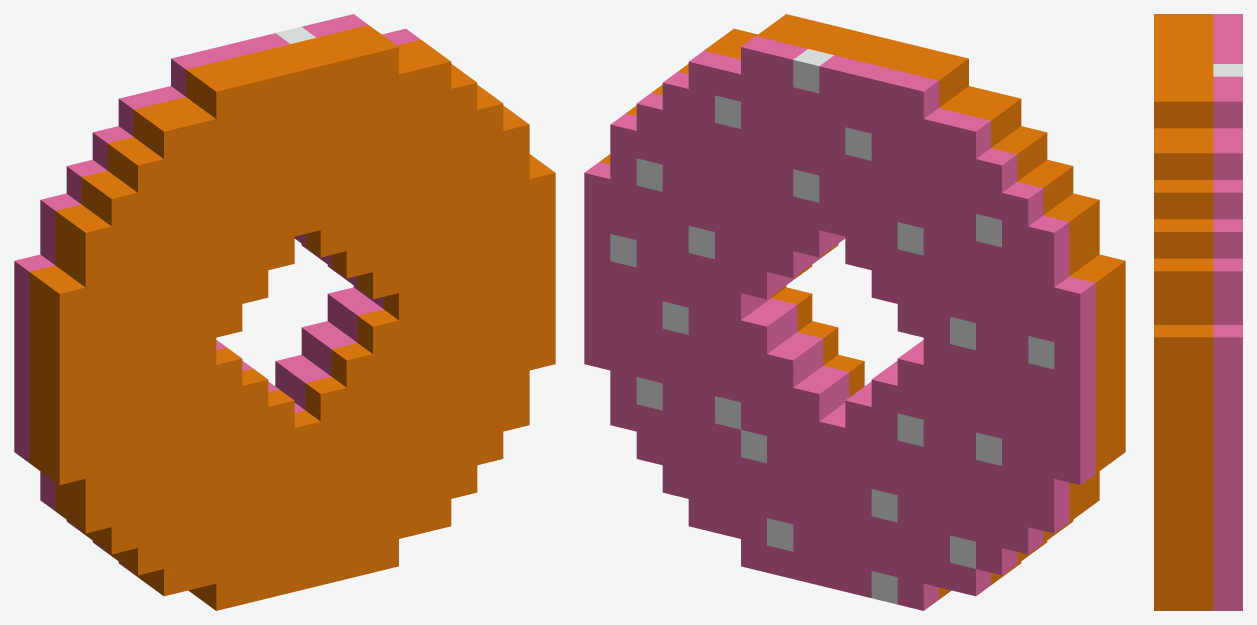
The model's file is Eruption-24.obj.
3 views of the same model, side by side, from view 1: azimuth 30°, elevation 25°; view 2: azimuth 150°, elevation 25°; view 3: azimuth 270°, elevation 25° (orthographic).
Bounding box in the file's own units: 1.9 × 1.9 × 0.3.
1 material, 1 textured.
